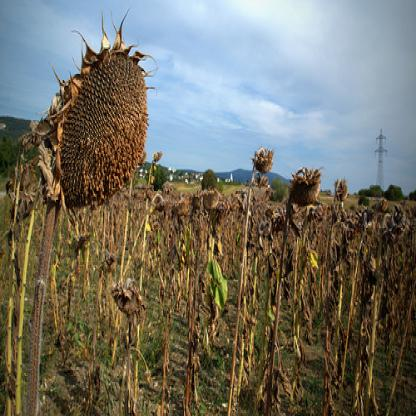SUN FLOWER: (20, 28, 400, 379)
